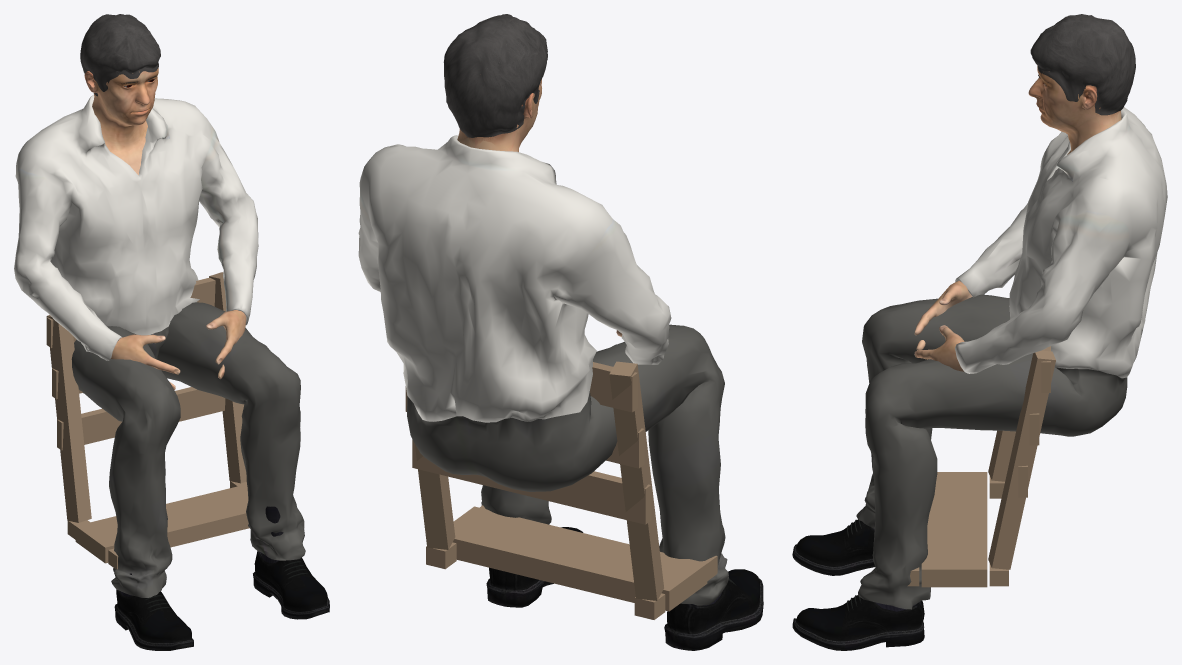
Rendered from seated-man-1951-a.glb.
3 views of the same model, side by side, from view 1: azimuth 30°, elevation 25°; view 2: azimuth 150°, elevation 25°; view 3: azimuth 270°, elevation 25° (orthographic). The views are drawn at different scales.
Parts seen in each view (by area): view 1: Human.male_shirt1951a.001, chair, Human.shoes03.001, Human.001, Human.short02.001; view 2: Human.male_shirt1951a.001, chair, Human.short02.001, Human.shoes03.001, Human.001; view 3: Human.male_shirt1951a.001, chair, Human.shoes03.001, Human.short02.001, Human.001.
Part boxes in pixels (x1=…): Human.male_shirt1951a.001: x1=14, y1=94, x2=305, y2=597; chair: x1=46, y1=272, x2=249, y2=569; Human.shoes03.001: x1=114, y1=506, x2=329, y2=650; Human.001: x1=84, y1=68, x2=246, y2=389; Human.short02.001: x1=80, y1=14, x2=160, y2=96; Human.male_shirt1951a.001: x1=358, y1=135, x2=728, y2=605; chair: x1=405, y1=361, x2=717, y2=619; Human.short02.001: x1=443, y1=14, x2=547, y2=137; Human.shoes03.001: x1=486, y1=527, x2=763, y2=650; Human.001: x1=457, y1=79, x2=622, y2=336; Human.male_shirt1951a.001: x1=856, y1=107, x2=1167, y2=609; chair: x1=907, y1=346, x2=1055, y2=587; Human.shoes03.001: x1=792, y1=519, x2=924, y2=650; Human.short02.001: x1=1030, y1=14, x2=1135, y2=115; Human.001: x1=914, y1=65, x2=1121, y2=371.
Bounding box in the file's own units: 0.7056 × 1.5 × 0.8737.
7 materials, 6 textured.
